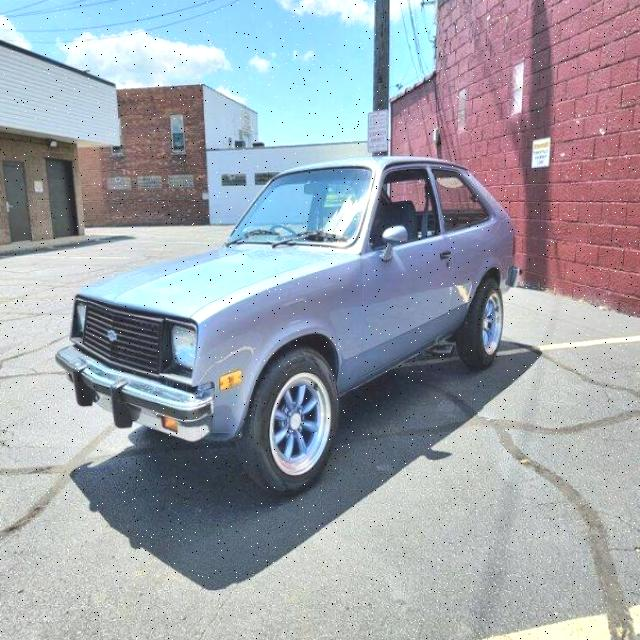car: (57, 158, 518, 498)
